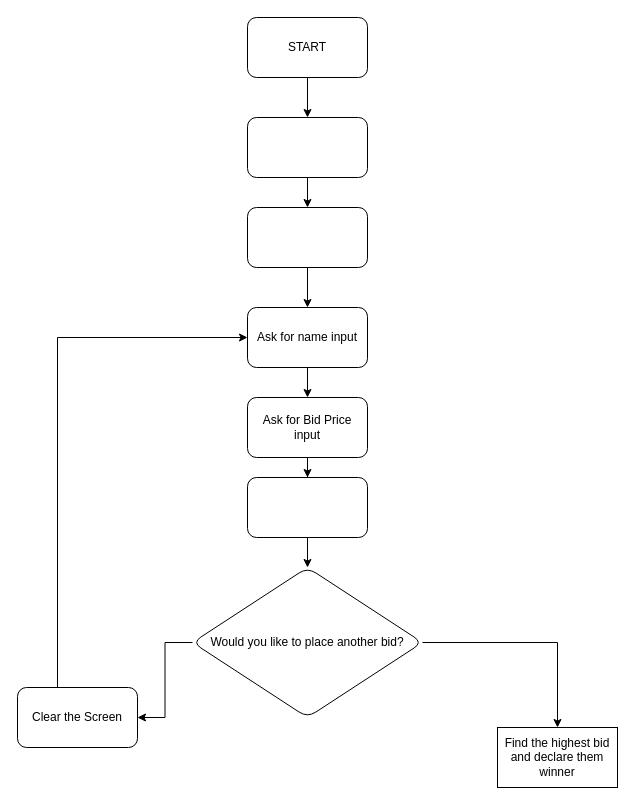
Image size: 635x805. Some labels were removed from this diagram. The centre of each missing label's shape, as x and y in pixels:
Addition of Name and Bid into a dictionary: point 307,507
AUCTION ITEM: point 307,237
Display Logo from art.py: point 307,147
